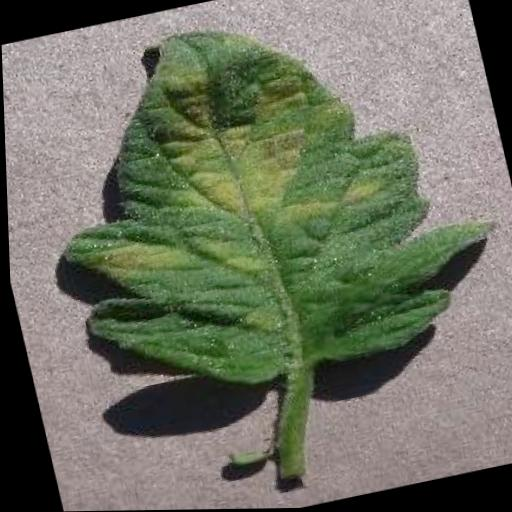Leaf Mold: (19, 0, 512, 417)
